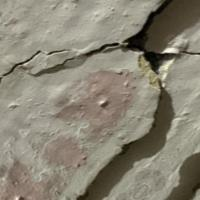crack: (2, 9, 180, 199)
